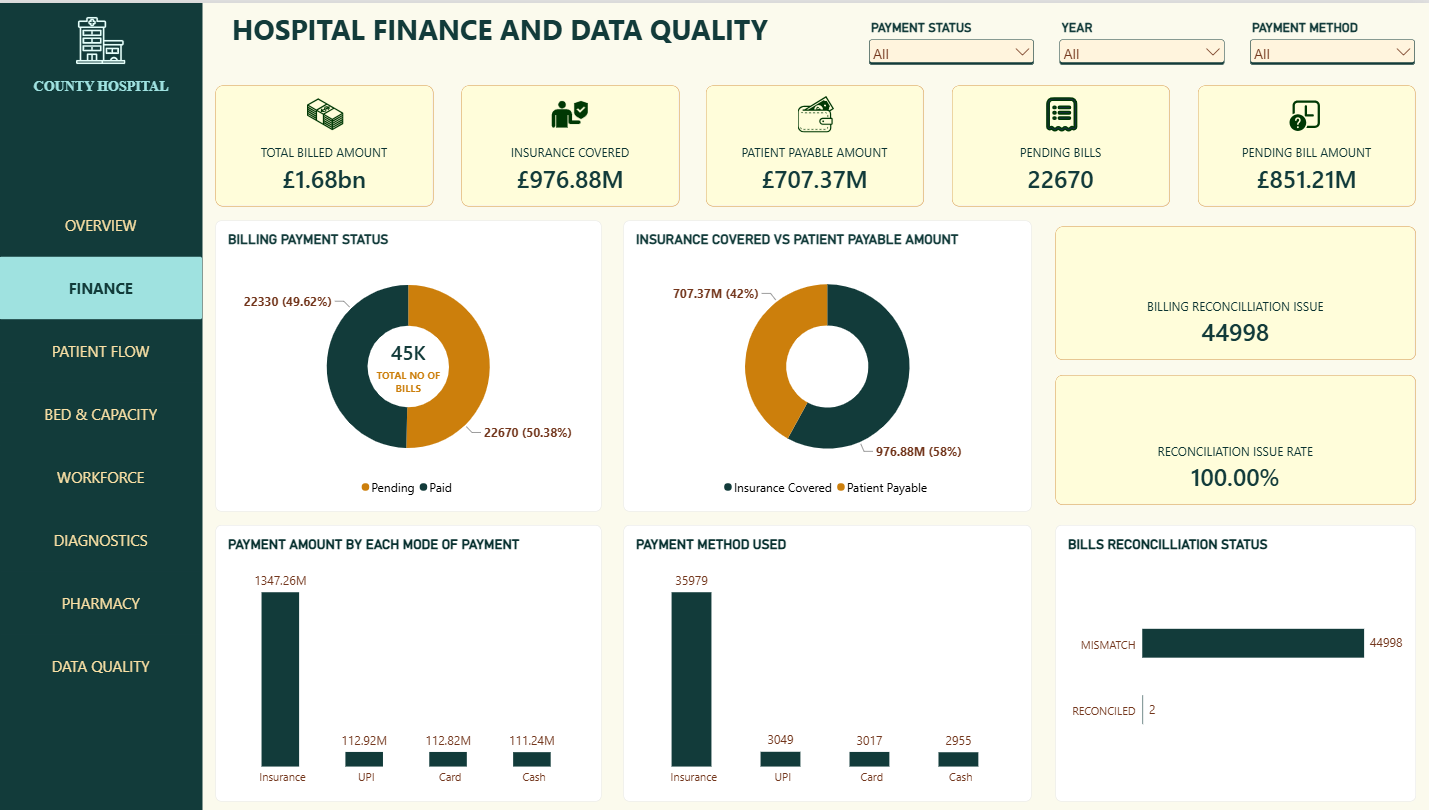

The page's visual inventory and layout, read from the dashboard file:
{"tool":"powerbi","page":{"name":"FINANCE","canvas":[1920,1080],"ordinal":1},"visuals":[{"type":"shape","box":[9.8,0,270.8,1080.8],"z":0,"group":"g7"},{"type":"image","box":[112.3,0,65.9,100],"z":0,"group":"g1"},{"type":"textbox","box":[280.6,0,788.1,78.1],"z":0},{"type":"cardVisual","fields":{"Data":["DateTable.TOTAL BILLED AMOUNT"]},"box":[297.7,109.8,290.3,161],"z":0,"group":"g2"},{"type":"textbox","box":[9.8,100,270.8,63.4],"z":1000,"group":"g1"},{"type":"pageNavigator","box":[9.8,253.7,270.8,673.4],"z":1000,"group":"g7"},{"type":"donutChart","title":"BILLING PAYMENT STATUS","fields":{"Category":["hospital_operations_analysis billing.payment_status"],"Y":["CountNonNull(hospital_operations_analysis billing.bill_id)"]},"box":[297.7,290,514.8,387.9],"z":1000},{"type":"group","id":"g1","title":"Group 1","box":[9.8,0,270.8,163.5],"z":2000,"group":"g7"},{"type":"clusteredColumnChart","title":"PAYMENT METHOD USED","fields":{"Category":["hospital_operations_analysis billing.payment_mode"],"Y":["CountNonNull(hospital_operations_analysis billing.bill_id)"]},"box":[841.7,695.3,544.1,368.4],"z":2000},{"type":"cardVisual","fields":{"Data":["DateTable.INSURANCE COVERED"]},"box":[625.2,109.8,290.3,161],"z":3000,"group":"g3"},{"type":"donutChart","title":"INSURANCE COVERED VS PATIENT PAYABLE AMOUNT","fields":{"Category":["Payment Breakdown.Payment Type"],"Y":["Payment Breakdown.Payment Breakdown Amount"]},"box":[841.7,290,544.1,387.9],"z":3000},{"type":"cardVisual","fields":{"Data":["DateTable.PATIENT PAYABLE AMOUNT"]},"box":[952.7,109.8,290.3,161],"z":4000,"group":"g4"},{"type":"cardVisual","fields":{"Data":["DateTable.BILLS WITH RECONCILLIATION ISSUE"]},"box":[1417.5,297.7,480.6,178.1],"z":4000},{"type":"cardVisual","fields":{"Data":["DateTable.PENDING BILLS"]},"box":[1280.3,109.8,290.3,161],"z":5000,"group":"g5"},{"type":"cardVisual","fields":{"Data":["DateTable.RECONCILIATION ISSUE RATE"]},"box":[1417.5,495.3,480.6,173.2],"z":5000},{"type":"image","box":[419.7,124.4,48.8,48.8],"z":6000,"group":"g2"},{"type":"clusteredColumnChart","title":"PAYMENT AMOUNT BY EACH MODE OF PAYMENT","fields":{"Category":["hospital_operations_analysis billing.payment_mode"],"Y":["Sum(hospital_operations_analysis billing.total_amount)"]},"box":[297.7,695.3,514.8,368.4],"z":6000},{"type":"clusteredBarChart","title":"BILLS RECONCILLIATION STATUS","fields":{"Category":["hospital_operations_analysis billing_reconciliation_view.reconciliation_status"],"Y":["CountNonNull(hospital_operations_analysis billing_reconciliation_view.bill_id)"]},"box":[1417.5,695.3,480.6,368.4],"z":7000},{"type":"group","id":"g2","title":"Group 1","box":[297.7,109.8,290.3,161],"z":8000},{"type":"group","id":"g3","title":"Group 2","box":[625.2,109.8,290.3,161],"z":9000},{"type":"group","id":"g4","title":"Group 3","box":[952.7,109.8,290.3,161],"z":10000},{"type":"group","id":"g5","title":"Group 4","box":[1280.3,109.8,290.3,161],"z":11000},{"type":"cardVisual","fields":{"Data":["DateTable.PENDING BILL AMOUNT"]},"box":[1607.8,109.8,290,161],"z":11000,"group":"g6"},{"type":"group","id":"g6","title":"Group 5","box":[1607.8,109.8,290,161],"z":12000},{"type":"group","id":"g7","title":"Group 2","box":[9.8,0,270.8,1080.8],"z":13000},{"type":"image","box":[745.6,124.4,48.8,48.8],"z":15000,"group":"g3"},{"type":"image","box":[1073.9,124.4,48.8,48.8],"z":16000,"group":"g4"},{"type":"slicer","fields":{"Values":["hospital_operations_analysis billing.payment_status"]},"box":[1163.8,22,230,78.1],"z":17000},{"type":"image","box":[1402.3,124.4,48.8,48.8],"z":17000,"group":"g5"},{"type":"image","box":[1727.4,124.4,48.8,48.8],"z":17000,"group":"g6"},{"type":"slicer","fields":{"Values":["DateTable.Year"]},"box":[1417.5,22,230,78.1],"z":18000},{"type":"slicer","fields":{"Values":["hospital_operations_analysis billing.payment_mode"]},"box":[1671.3,22,230,78.1],"z":19000}]}

Visuals, with their boxes in screenshot pixels (x1, y1, x2, y2), scaled from the page's 1920x1080 canvas onto the 1429x810 screenshot:
shape: region(7, 0, 209, 809)
image: region(84, 0, 133, 75)
textbox: region(209, 0, 795, 59)
cardVisual - DateTable.TOTAL BILLED AMOUNT: region(222, 82, 438, 203)
textbox: region(7, 75, 209, 123)
pageNavigator: region(7, 190, 209, 695)
"BILLING PAYMENT STATUS" donutChart: region(222, 218, 605, 508)
"Group 1" group: region(7, 0, 209, 123)
"PAYMENT METHOD USED" clusteredColumnChart: region(626, 521, 1031, 798)
cardVisual - DateTable.INSURANCE COVERED: region(465, 82, 681, 203)
"INSURANCE COVERED VS PATIENT PAYABLE AMOUNT" donutChart: region(626, 218, 1031, 508)
cardVisual - DateTable.PATIENT PAYABLE AMOUNT: region(709, 82, 925, 203)
cardVisual - DateTable.BILLS WITH RECONCILLIATION ISSUE: region(1055, 223, 1413, 357)
cardVisual - DateTable.PENDING BILLS: region(953, 82, 1169, 203)
cardVisual - DateTable.RECONCILIATION ISSUE RATE: region(1055, 371, 1413, 501)
image: region(312, 93, 349, 130)
"PAYMENT AMOUNT BY EACH MODE OF PAYMENT" clusteredColumnChart: region(222, 521, 605, 798)
"BILLS RECONCILLIATION STATUS" clusteredBarChart: region(1055, 521, 1413, 798)
"Group 1" group: region(222, 82, 438, 203)
"Group 2" group: region(465, 82, 681, 203)
"Group 3" group: region(709, 82, 925, 203)
"Group 4" group: region(953, 82, 1169, 203)
cardVisual - DateTable.PENDING BILL AMOUNT: region(1197, 82, 1412, 203)
"Group 5" group: region(1197, 82, 1412, 203)
"Group 2" group: region(7, 0, 209, 809)
image: region(555, 93, 591, 130)
image: region(799, 93, 836, 130)
slicer - hospital_operations_analysis billing.payment_status: region(866, 16, 1037, 75)
image: region(1044, 93, 1080, 130)
image: region(1286, 93, 1322, 130)
slicer - DateTable.Year: region(1055, 16, 1226, 75)
slicer - hospital_operations_analysis billing.payment_mode: region(1244, 16, 1415, 75)
